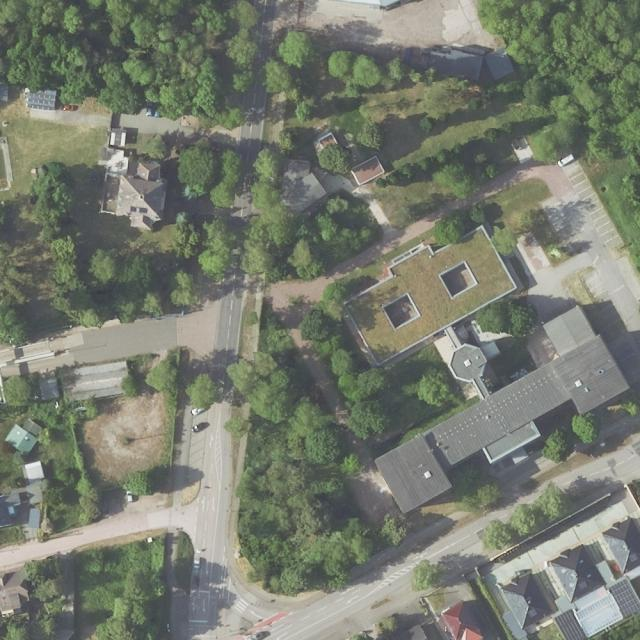PV: (607, 578, 640, 615), (554, 608, 587, 639), (27, 92, 57, 109)
ST: (578, 580, 589, 590), (528, 608, 538, 618), (629, 553, 639, 562)
